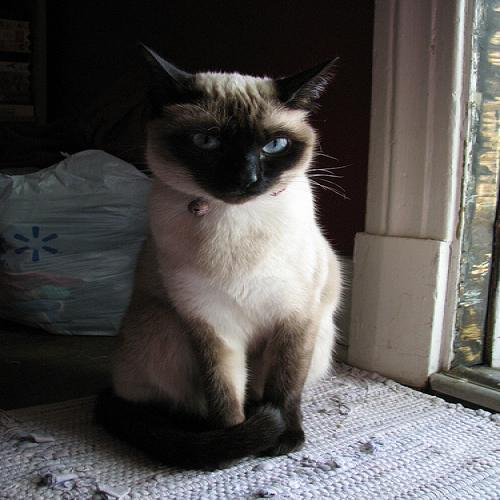siamese: (123, 13, 356, 226)
